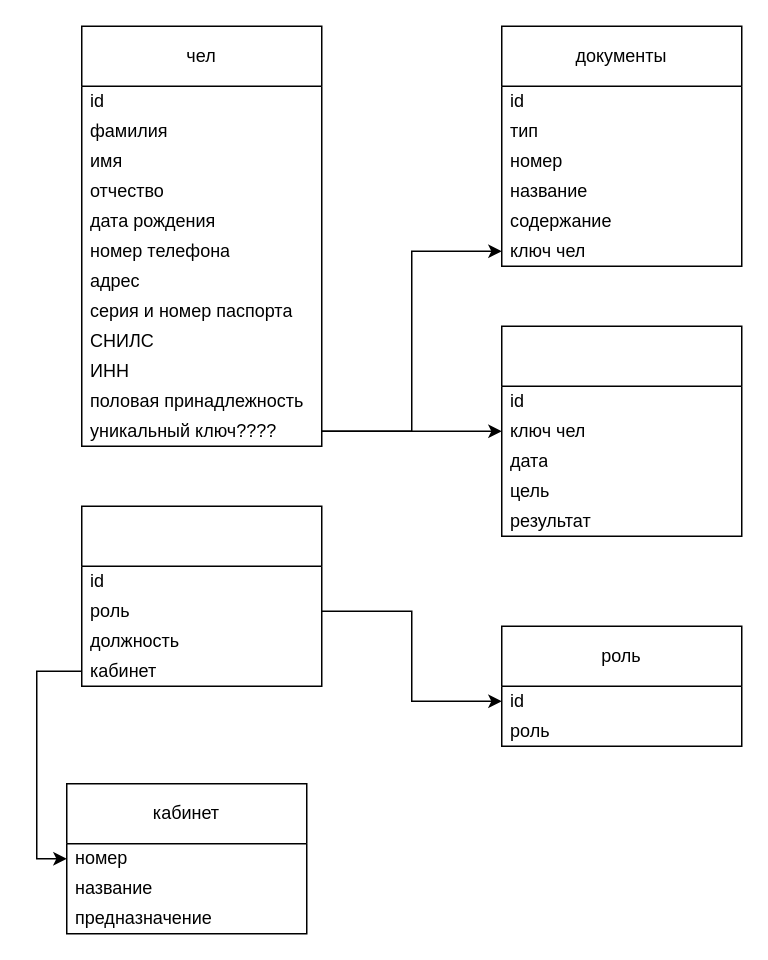
Some shapes in this 768 by 960 pixel diagram are drawn without their labels. The box of each missing label's shape, as (x1, y1, x2, y2) in pixels:
пользователь: (80, 505, 322, 686)
посещения: (500, 325, 742, 536)
